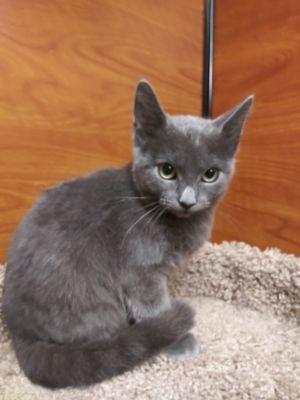rblue: (106, 65, 266, 249)
